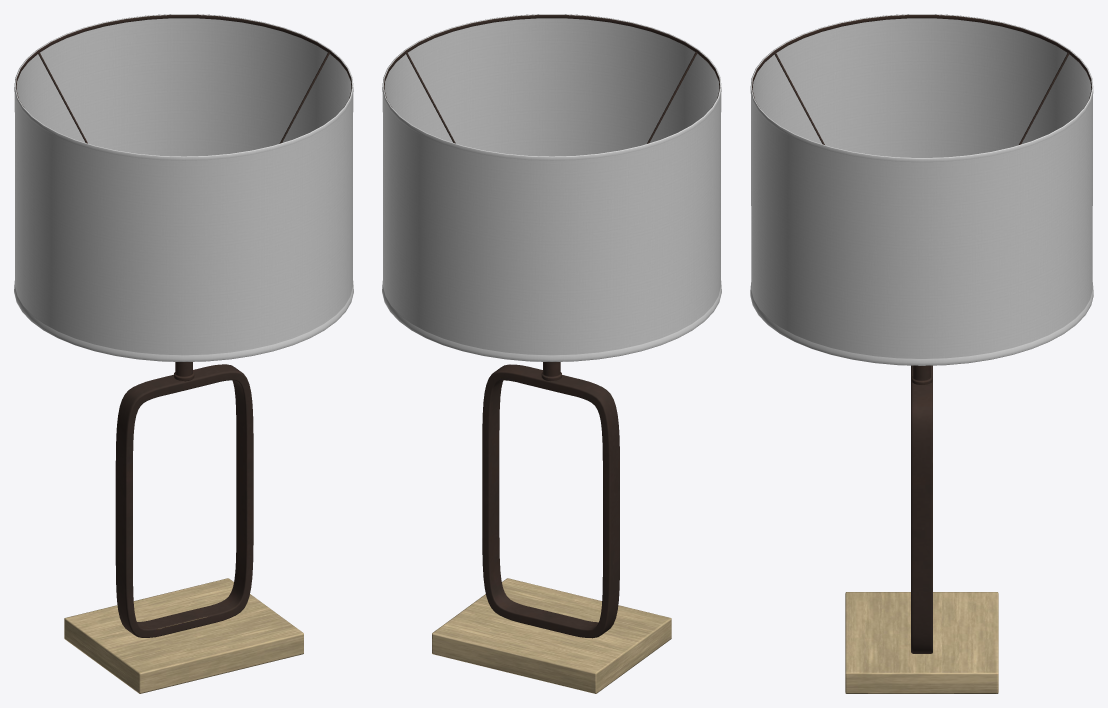
File: lamp_B07B4YVX7P.glb
The picture shows the model from 3 angles, left to right: view 1: azimuth 30°, elevation 25°; view 2: azimuth 150°, elevation 25°; view 3: azimuth 270°, elevation 25°; orthographic projection.
Parts seen in each view (by area): view 1: RootNode; view 2: RootNode; view 3: RootNode.
Part boxes in pixels (x1=…): RootNode: x1=14, y1=14, x2=353, y2=693; RootNode: x1=382, y1=14, x2=721, y2=693; RootNode: x1=750, y1=14, x2=1093, y2=693.
Bounding box in the file's own units: 0.2786 × 0.5081 × 0.2788.
1 material, 1 textured.
